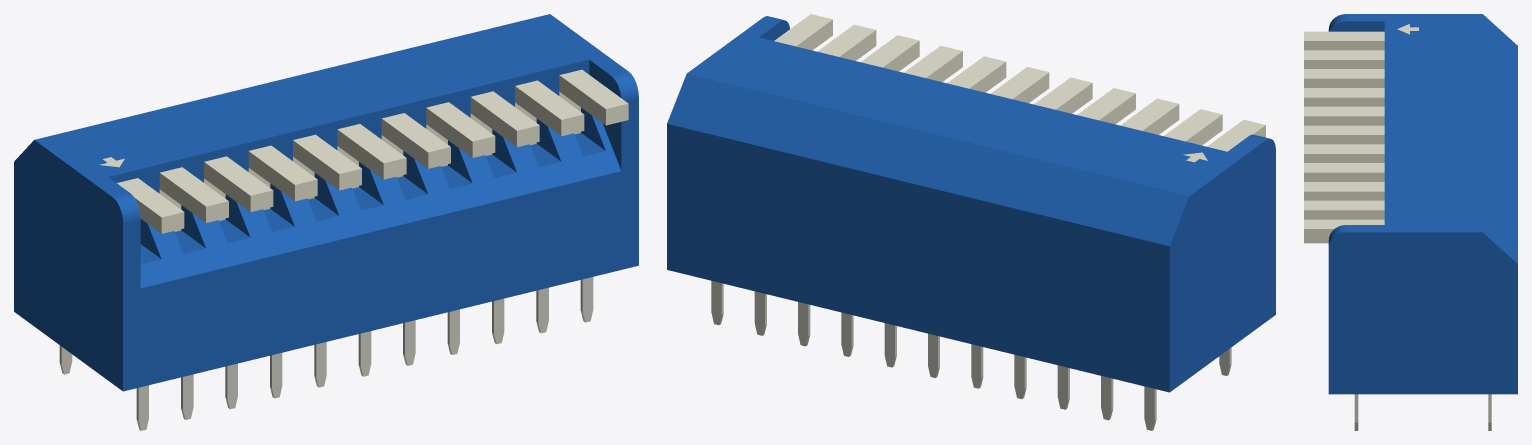
File: kc-sw_dip_spstx11_piano_10.8x29.5mm_w7.62mm_p2.54mm.glb
3 renders of one model, left to right at view 1: azimuth 30°, elevation 25°; view 2: azimuth 150°, elevation 25°; view 3: azimuth 270°, elevation 25°, orthographic. The views are drawn at different scales.
Parts seen in each view (by area): view 1: 0_0.16666666666666666_0.5_0, 0.75_0.75_0.6666666666666666_0, 0.6666666666666666_0.6666666666666666_0.5833333333333334_0.8; view 2: 0_0.16666666666666666_0.5_0, 0.75_0.75_0.6666666666666666_0, 0.6666666666666666_0.6666666666666666_0.5833333333333334_0.8; view 3: 0_0.16666666666666666_0.5_0, 0.75_0.75_0.6666666666666666_0, 0.6666666666666666_0.6666666666666666_0.5833333333333334_0.8.
Boxes of the visible parts, x1,y1,x2,y2 form: 0_0.16666666666666666_0.5_0: (14, 14, 638, 391); 0.75_0.75_0.6666666666666666_0: (100, 69, 628, 233); 0.6666666666666666_0.6666666666666666_0.5833333333333334_0.8: (59, 277, 593, 430); 0_0.16666666666666666_0.5_0: (667, 16, 1275, 392); 0.75_0.75_0.6666666666666666_0: (774, 14, 1265, 162); 0.6666666666666666_0.6666666666666666_0.5833333333333334_0.8: (711, 281, 1231, 430); 0_0.16666666666666666_0.5_0: (1328, 14, 1517, 394); 0.75_0.75_0.6666666666666666_0: (1304, 24, 1418, 243); 0.6666666666666666_0.6666666666666666_0.5833333333333334_0.8: (1354, 394, 1491, 430).
Bounding box in the file's own units: 2.95 × 1.34 × 1.22.
